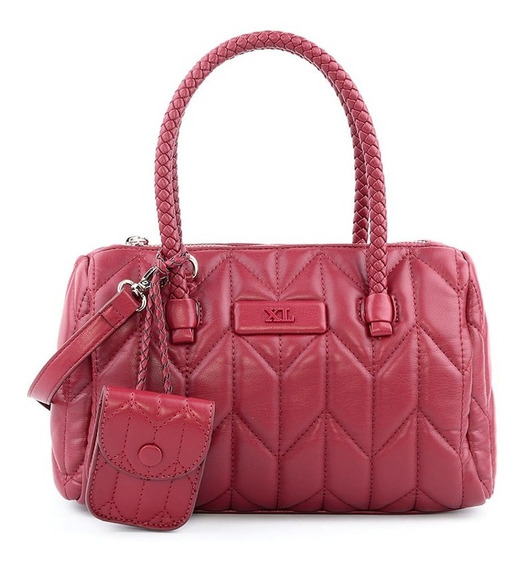cartera: (28, 28, 497, 534)
